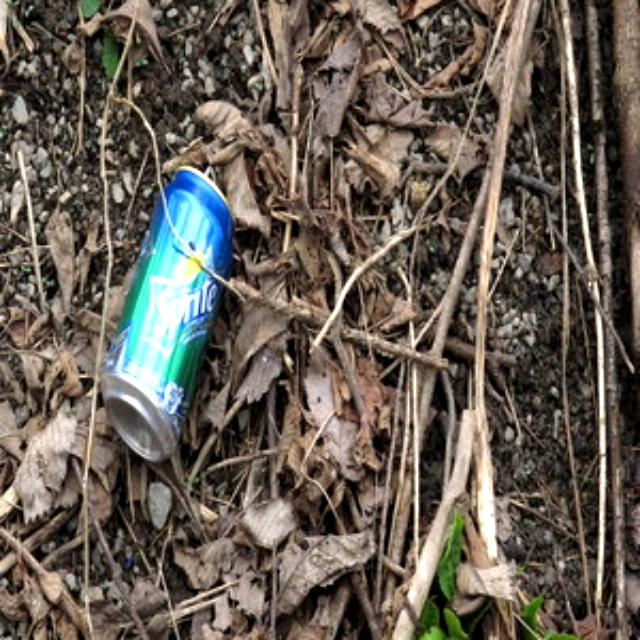Metal: (96, 170, 230, 468)
